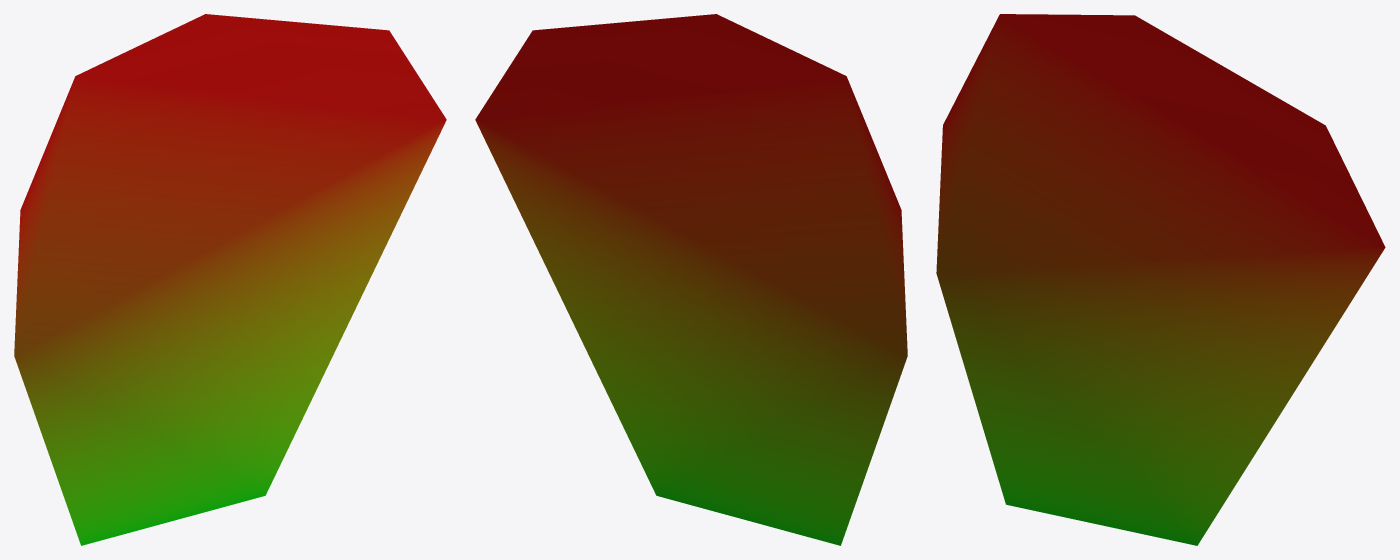
The model's file is Var3_LOD4.fbx.
3 views of the same model, side by side, from view 1: azimuth 30°, elevation 25°; view 2: azimuth 150°, elevation 25°; view 3: azimuth 330°, elevation 25° (orthographic). The views are drawn at different scales.
Visible parts, largest first — view 1: _73kn_Var3_LOD4; view 2: _73kn_Var3_LOD4; view 3: _73kn_Var3_LOD4.
Part boxes in pixels (x1=…): _73kn_Var3_LOD4: x1=14, y1=14, x2=446, y2=545; _73kn_Var3_LOD4: x1=475, y1=14, x2=907, y2=545; _73kn_Var3_LOD4: x1=936, y1=14, x2=1385, y2=545.
Bounding box in the file's own units: 23.6 × 26.15 × 1.04e-06.
